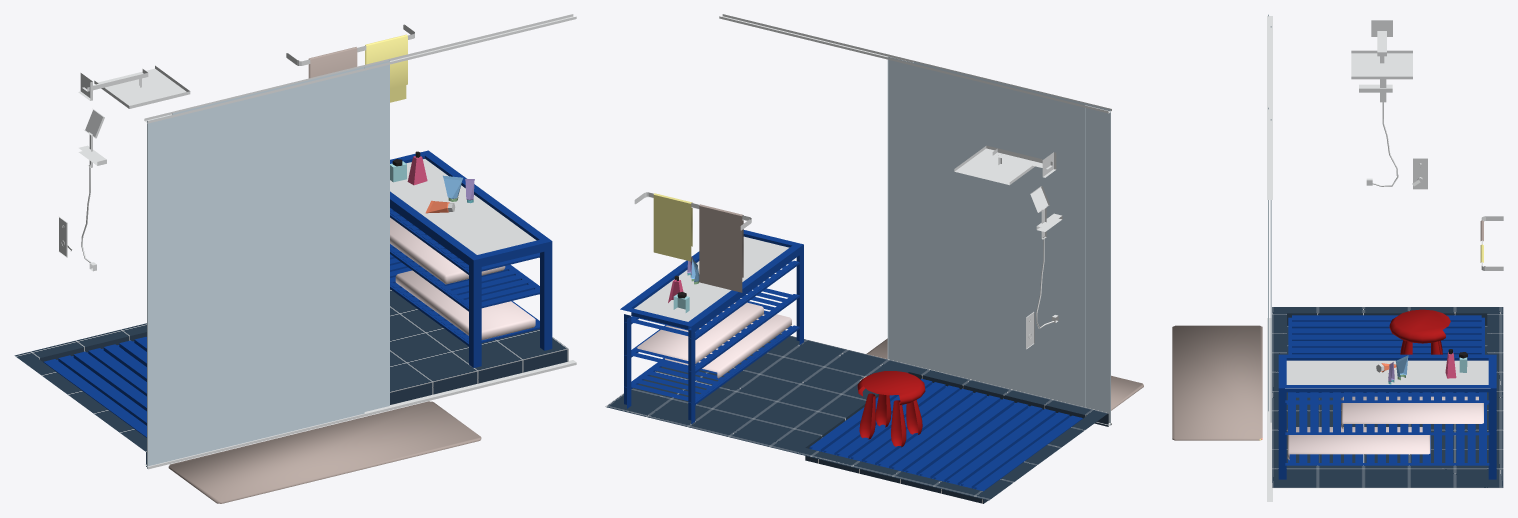
The model's file is M_BRyugang04.FBX.
3 renders of one model, left to right at view 1: azimuth 30°, elevation 25°; view 2: azimuth 150°, elevation 25°; view 3: azimuth 270°, elevation 25°, orthographic. The views are drawn at different scales.
Visible parts, largest first — view 1: M_BRyugang04_04, M_BRyugang04_06, M_BRyugang04_02, M_BRyugang04_01, M_BRyugang04_05, M_BRyugang04_03; view 2: M_BRyugang04_04, M_BRyugang04_02, M_BRyugang04_01, M_BRyugang04_06, M_BRyugang04_05, M_BRyugang04_03; view 3: M_BRyugang04_02, M_BRyugang04_06, M_BRyugang04_01, M_BRyugang04_05, M_BRyugang04_04, M_BRyugang04_03.
Part boxes in pixels (x1,y1,x2,y2): M_BRyugang04_04: [147, 60, 536, 468]; M_BRyugang04_06: [168, 34, 535, 503]; M_BRyugang04_02: [43, 150, 552, 437]; M_BRyugang04_01: [14, 289, 568, 466]; M_BRyugang04_05: [58, 14, 576, 469]; M_BRyugang04_03: [390, 151, 474, 213]; M_BRyugang04_04: [634, 57, 1110, 425]; M_BRyugang04_02: [620, 230, 1082, 491]; M_BRyugang04_01: [605, 333, 1108, 503]; M_BRyugang04_06: [637, 193, 1143, 410]; M_BRyugang04_05: [634, 14, 1111, 425]; M_BRyugang04_03: [668, 256, 925, 447]; M_BRyugang04_02: [1278, 315, 1496, 479]; M_BRyugang04_06: [1172, 220, 1483, 459]; M_BRyugang04_01: [1272, 307, 1503, 488]; M_BRyugang04_05: [1267, 16, 1503, 501]; M_BRyugang04_04: [1268, 14, 1490, 422]; M_BRyugang04_03: [1376, 309, 1467, 384].
Size of the model in its own units: 4.3 by 3.34 by 3.27.
